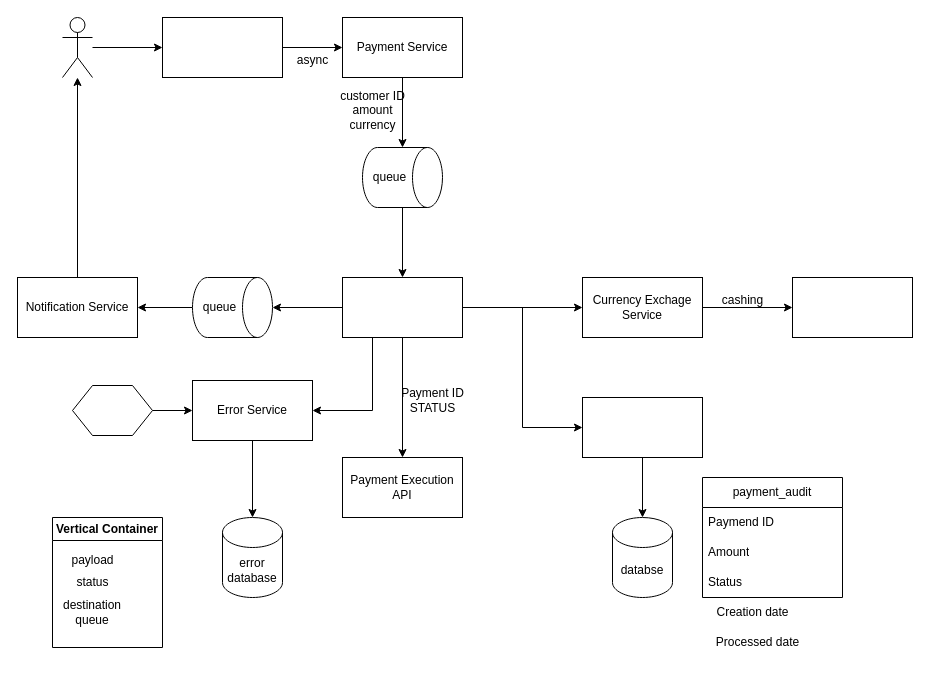
The diagram is 930 pixels wide and 675 high, and some of its shapes have lost their labels. The centre of each missing label's shape, as x and y in pixels:
"Actor" belongs at [77,47].
"cron" belongs at [112,410].
"Currency Exchage Rate API" belongs at [852,307].
"Payment Audit Service" belongs at [642,427].
"Payment Execution Service" belongs at [402,307].
"Web App" belongs at [222,47].
